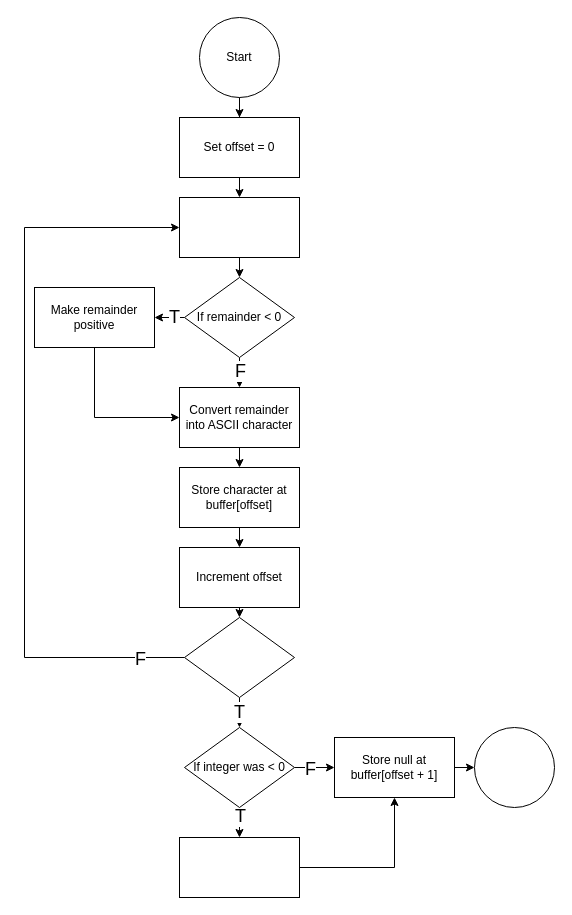
Some shapes in this 572 by 915 pixel diagram are drawn without their labels. Here are the shapes that lost their labels. From the top down, the centre of each, then its label:
pixel 239 227: Divide integer by 10, and set integer = quotient
pixel 239 657: If remainder == 0
pixel 514 767: End
pixel 239 867: Store '-' at buffer[offset]
